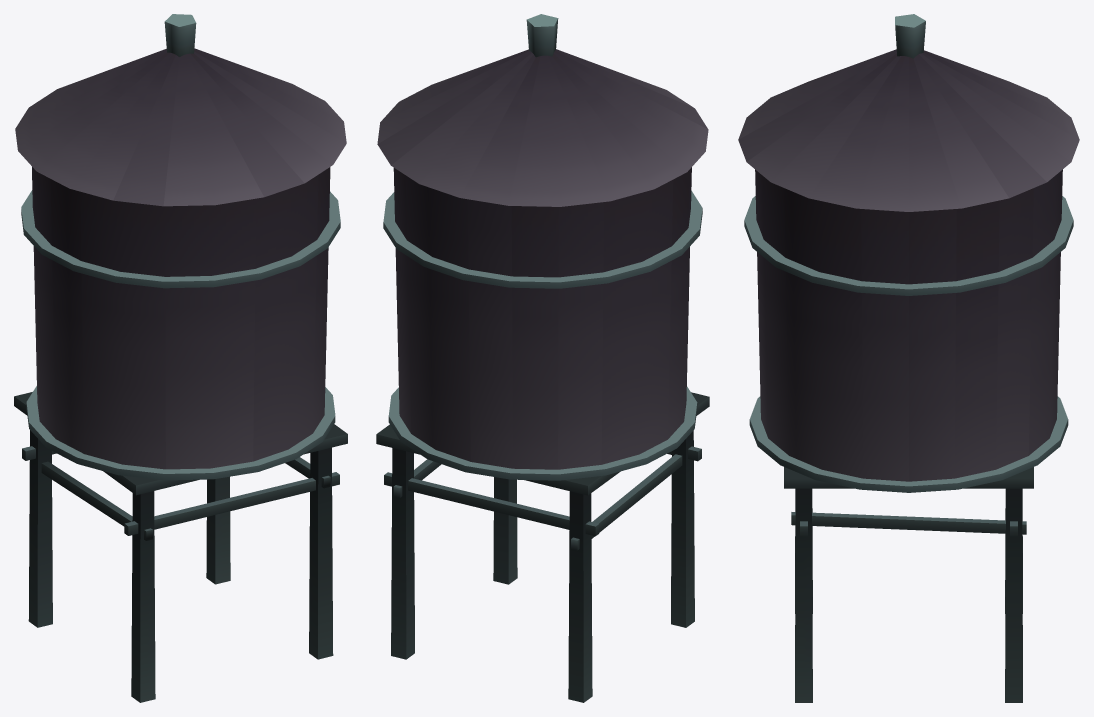
The model's file is Water_Tank_1B.fbx.
The picture shows the model from 3 angles, left to right: view 1: azimuth 30°, elevation 25°; view 2: azimuth 150°, elevation 25°; view 3: azimuth 270°, elevation 25°; orthographic projection. The views are drawn at different scales.
Visible parts, largest first — view 1: Water_Tank_1B; view 2: Water_Tank_1B; view 3: Water_Tank_1B.
Boxes of the visible parts, bbox=[...] form: Water_Tank_1B: bbox=[14, 14, 347, 702]; Water_Tank_1B: bbox=[376, 14, 709, 702]; Water_Tank_1B: bbox=[738, 14, 1079, 702].
Size of the model in its own units: 325 by 665 by 325.
